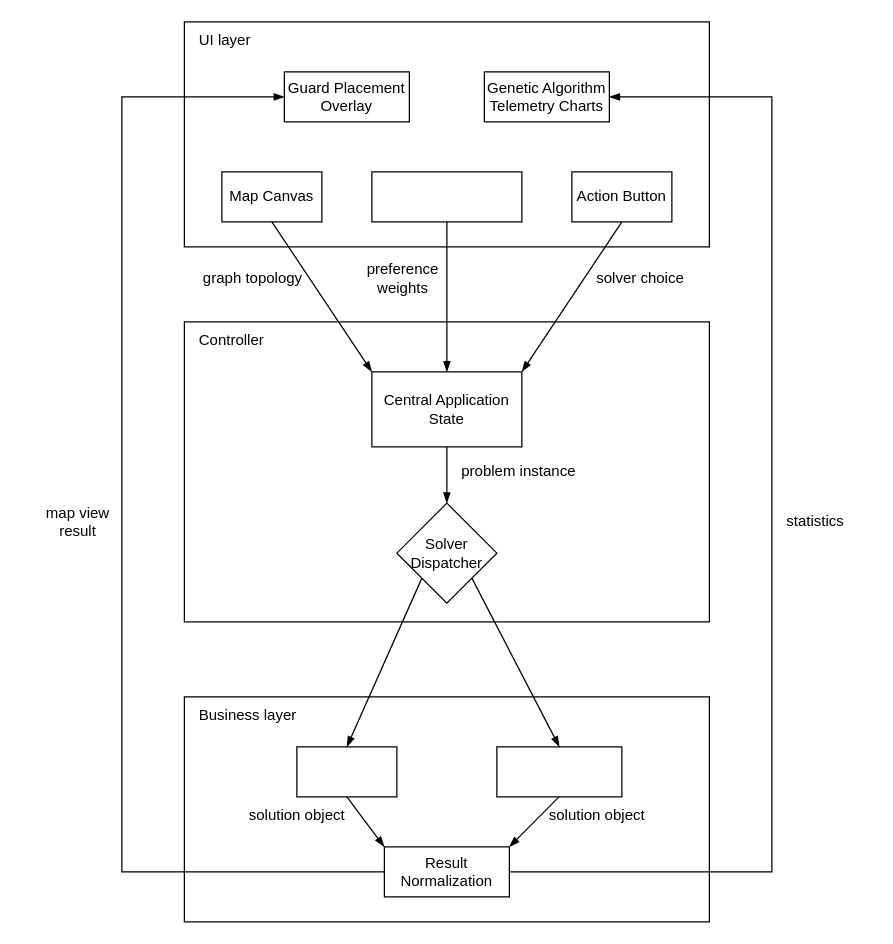
The diagram is 893 pixels wide and 944 high, and some of its shapes have lost their labels. The centre of each missing label's shape, as x and y in pixels:
"Genetic Algorithm Solver" belongs at pixel 559 771.
"Greedy Solver" belongs at pixel 346 771.
"Priority and Shift Configuration Modals" belongs at pixel 446 196.
